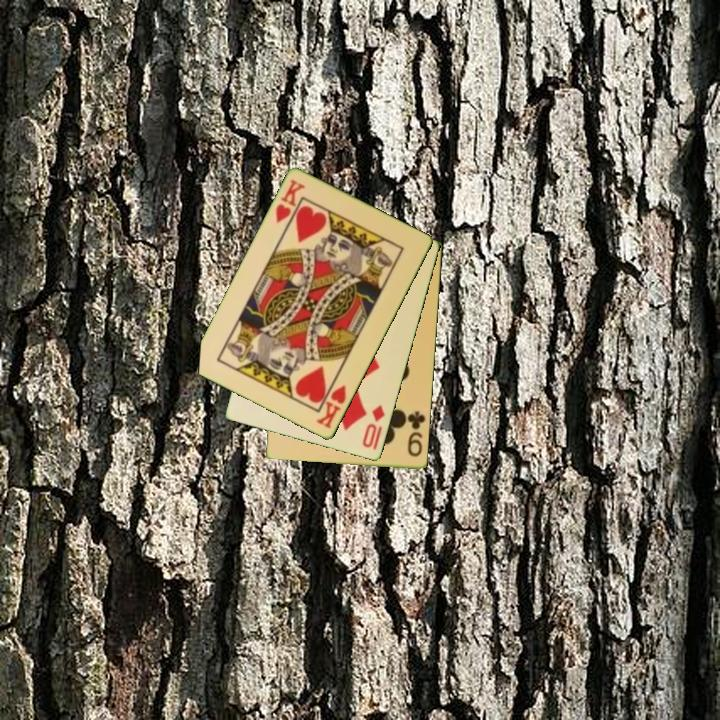10d: (359, 401, 388, 451)
9c: (404, 408, 428, 460)
Kh: (313, 375, 349, 432), (272, 176, 308, 226)
